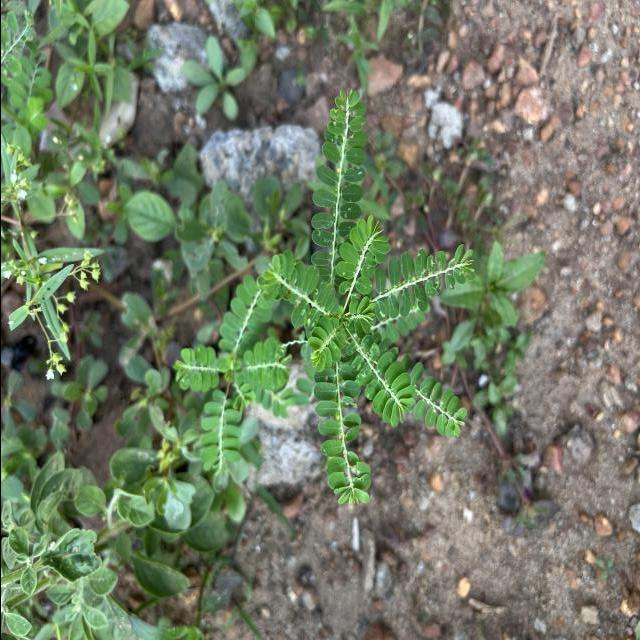Phyllanthus niruri: (308, 85, 367, 268), (309, 376, 374, 510), (372, 243, 476, 322), (255, 248, 338, 332), (356, 348, 416, 428), (334, 214, 390, 298), (412, 374, 467, 440), (304, 314, 344, 374)
